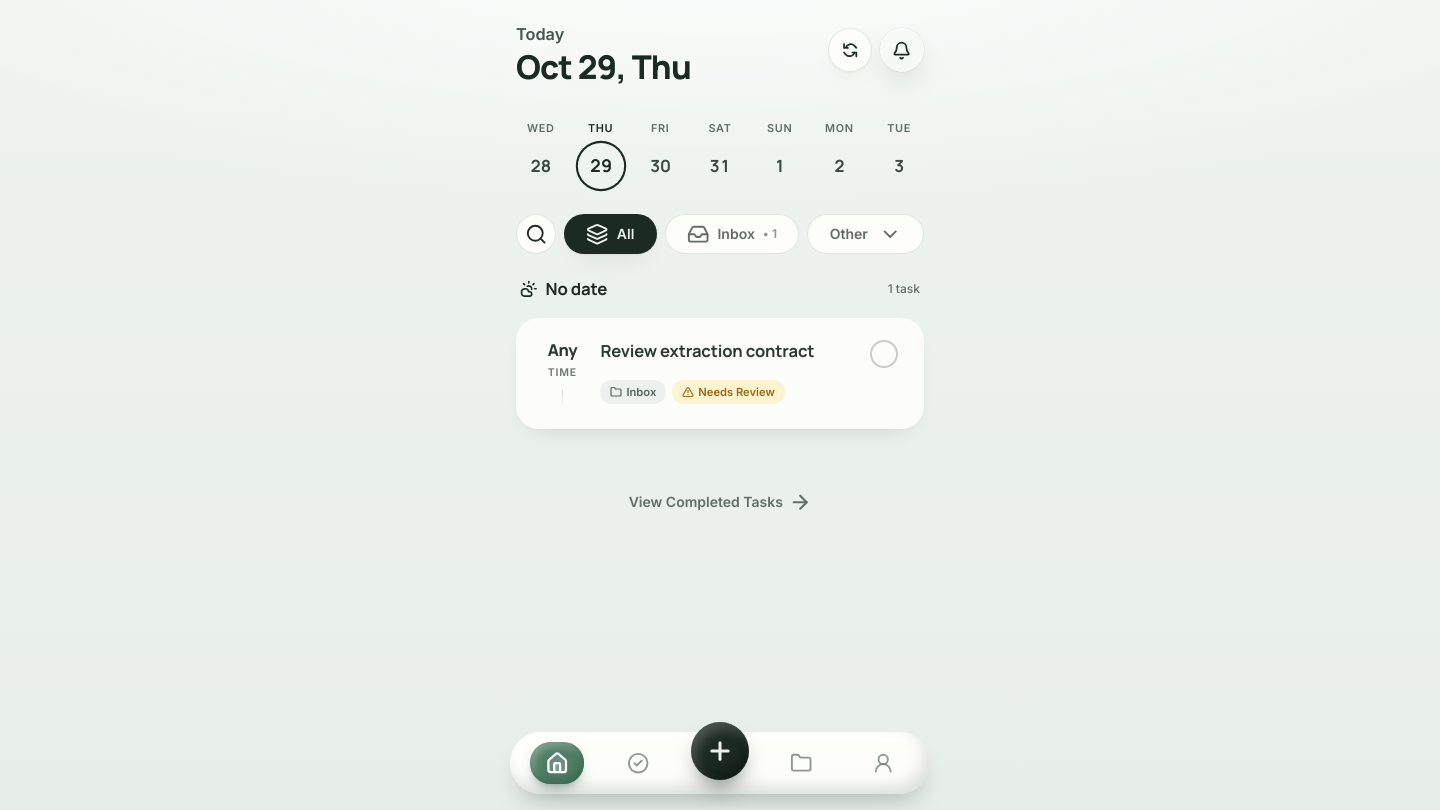
Test case: app shell › opens the account menu and navigates to desktop mission control
Click the button named "Open account menu" at (883, 763), box [842,732,924,794]
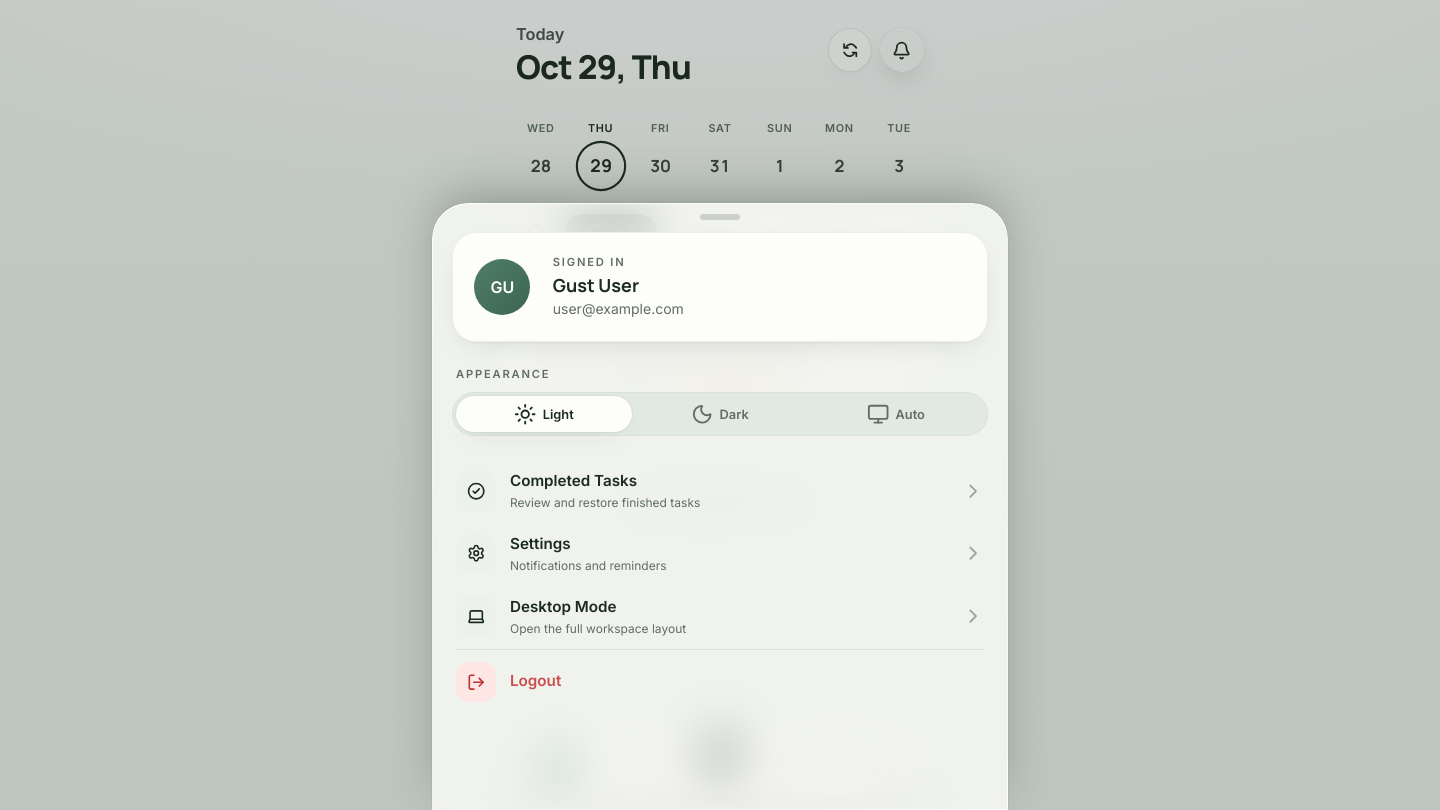
Click the menu item "Desktop Mode" at (476, 616), box [444,586,996,646]
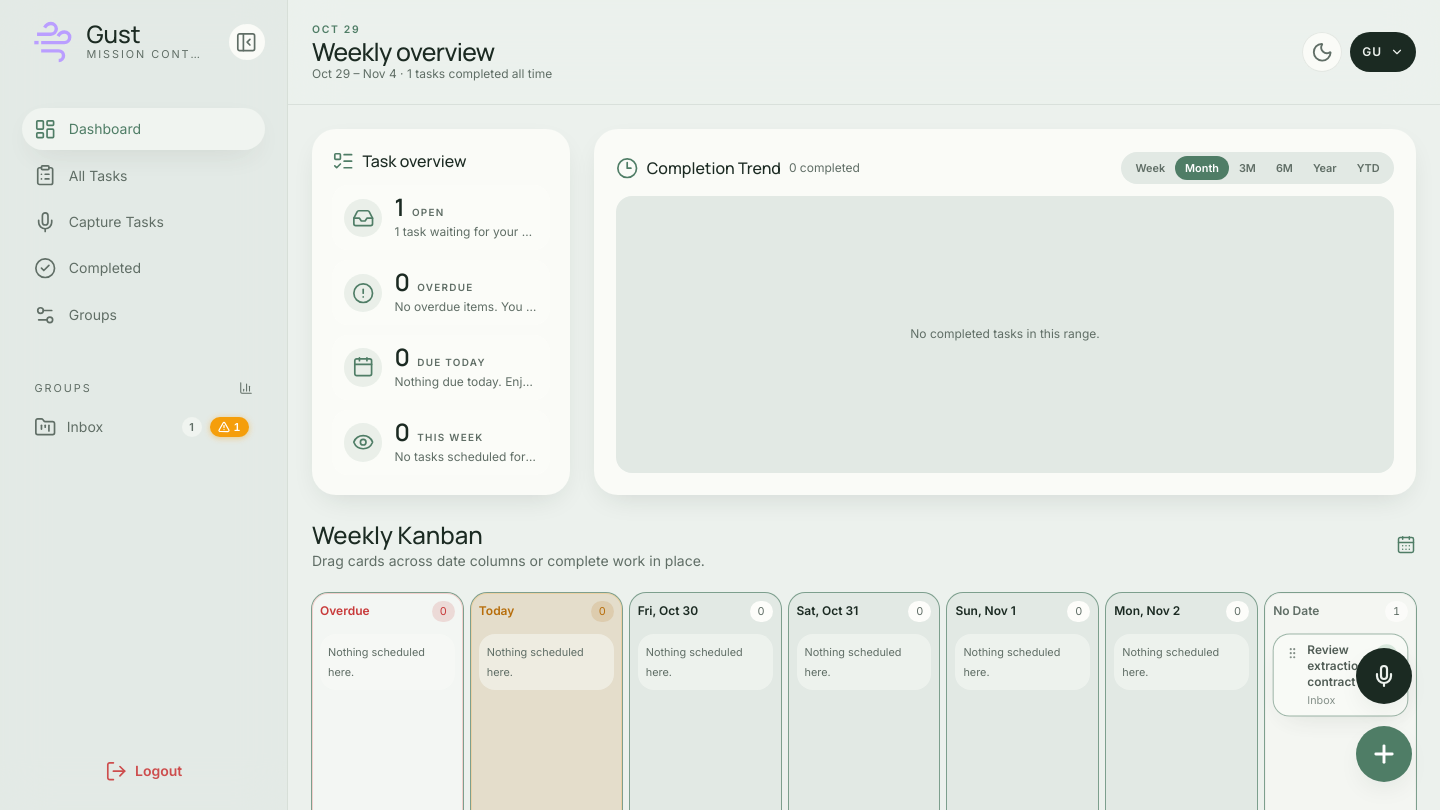
expect the text "Mission Control" is shown: met, box [86,46,209,62]
expect the heading "Weekly overview" is shown: met, box [312,35,494,68]
